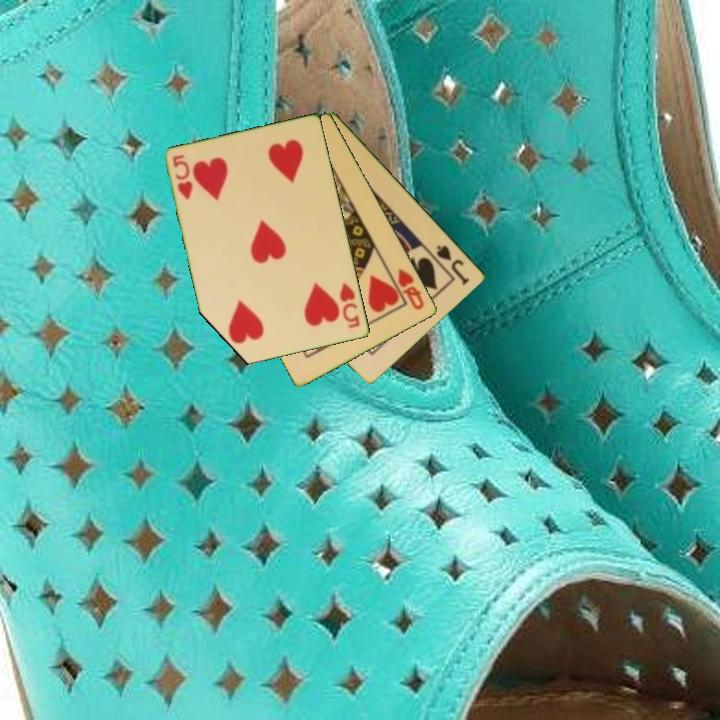5h: (336, 279, 363, 331), (169, 151, 196, 203)
Js: (433, 241, 473, 288)
Qh: (395, 265, 428, 313)
